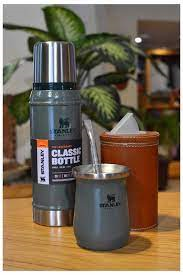mate: (71, 162, 135, 253)
metal: (69, 160, 133, 251)
